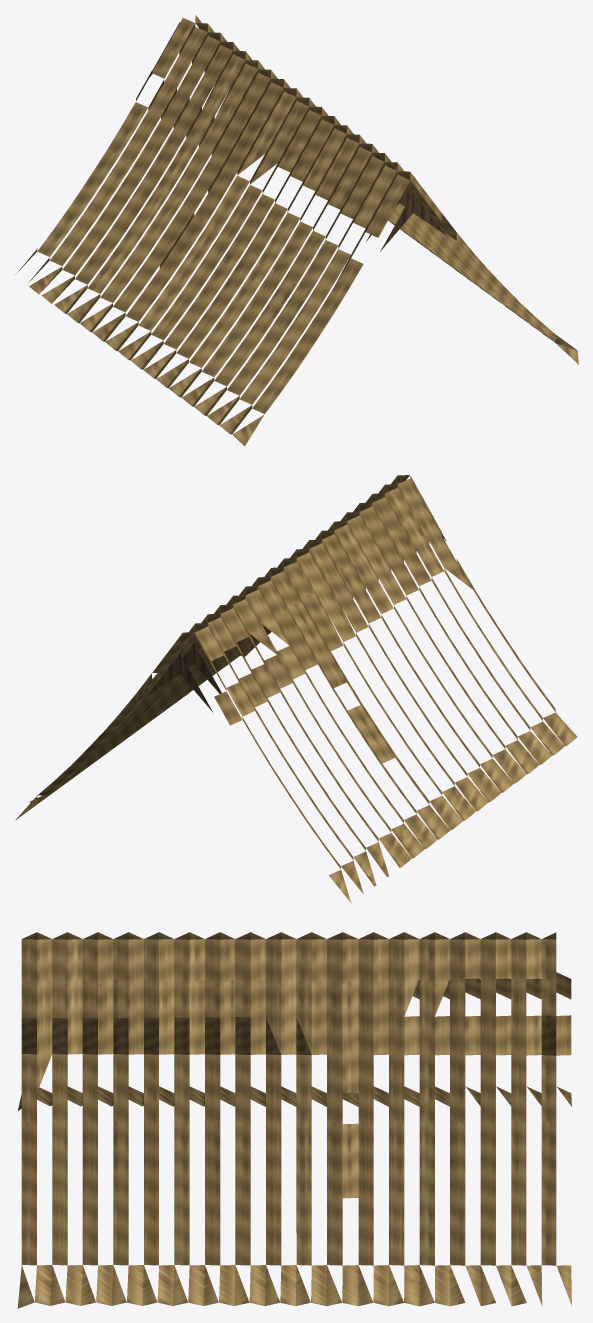
File: Roof_Thatch_6x8_LOD1.gltf
3 views of the same model, one above another, from view 1: azimuth 30°, elevation 25°; view 2: azimuth 150°, elevation 25°; view 3: azimuth 270°, elevation 25° (orthographic). The views are drawn at different scales.
Visible parts, largest first — view 1: Roof_Thatch_6x8_LOD1; view 2: Roof_Thatch_6x8_LOD1; view 3: Roof_Thatch_6x8_LOD1.
Part boxes in pixels (bbox=[...]): Roof_Thatch_6x8_LOD1: bbox=[15, 15, 578, 446]; Roof_Thatch_6x8_LOD1: bbox=[15, 475, 577, 903]; Roof_Thatch_6x8_LOD1: bbox=[17, 932, 571, 1308].
Bounding box in the file's own units: 8.25 × 5.17 × 9.66.
Materials: 2 (2 with a texture image).
